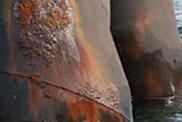rust: (14, 3, 91, 98), (74, 104, 108, 121)
